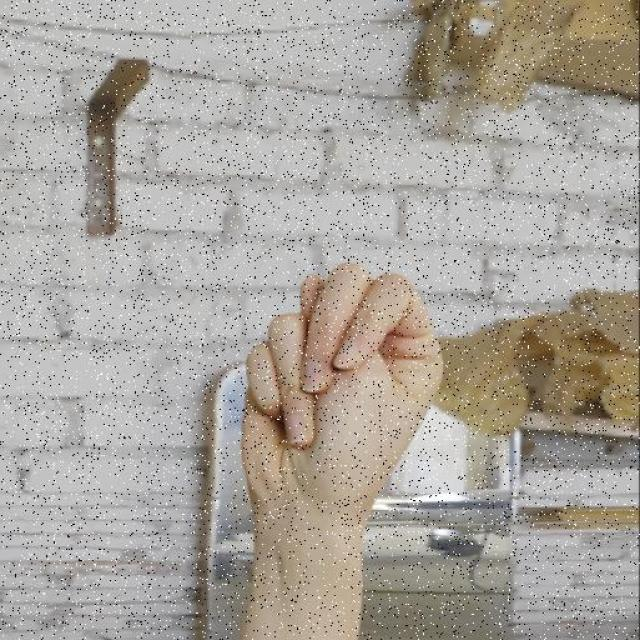N: (237, 259, 449, 506)
